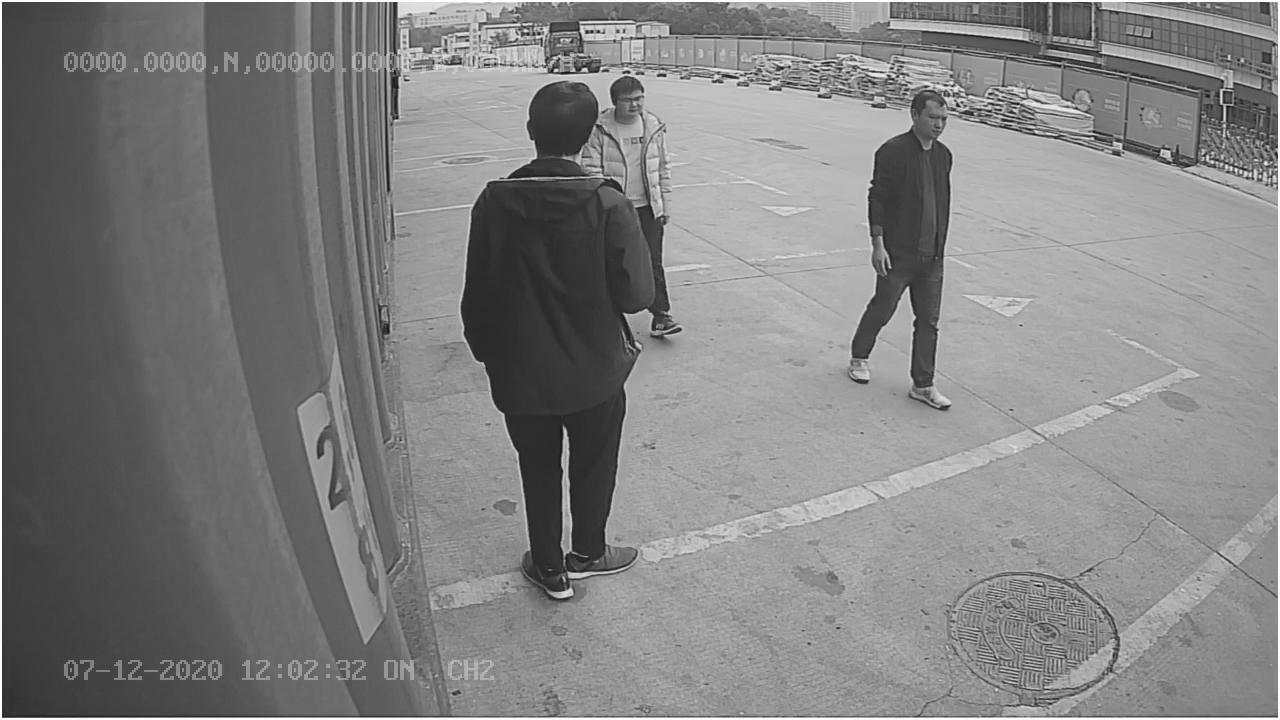person: (449, 74, 655, 609), (844, 79, 964, 412)
